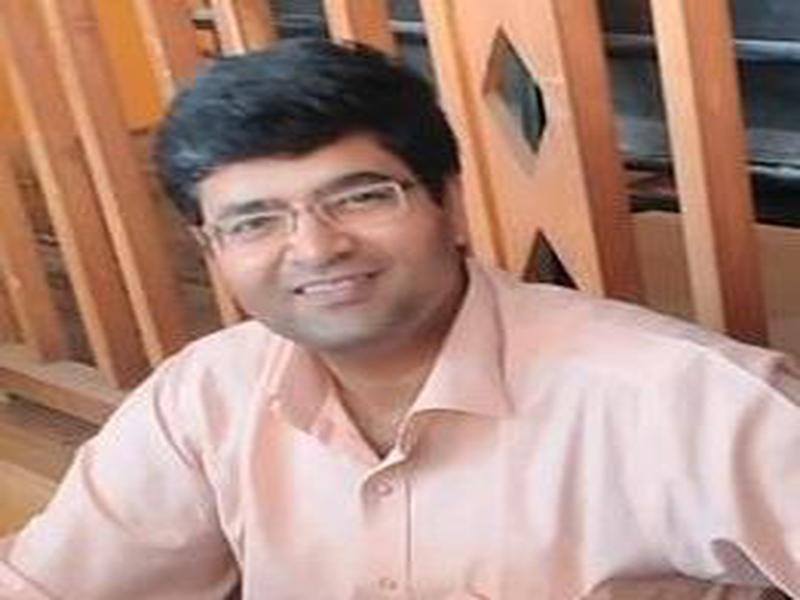without_mask: (197, 153, 440, 344)
